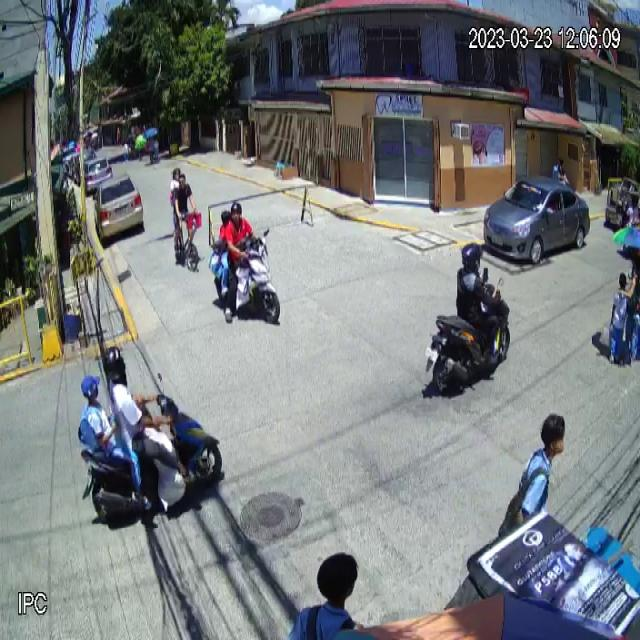Car: (483, 174, 590, 264)
Motorcycle: (425, 268, 511, 395)
